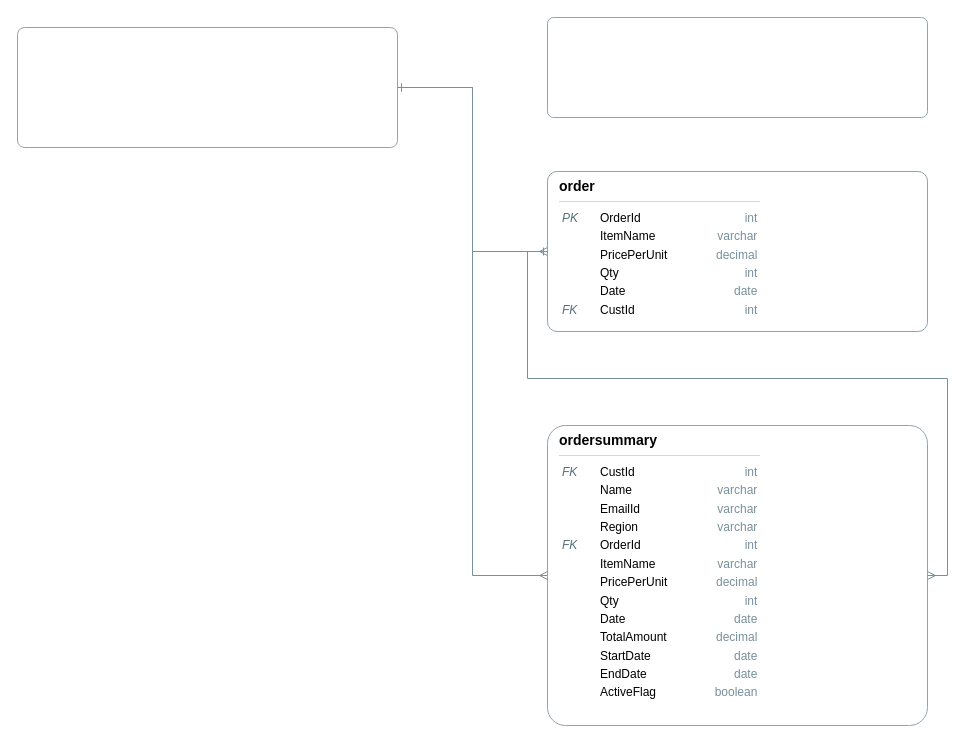
Image size: 974x743. Some labels were removed from this diagram. Each missing label, with the box of its shape:
customer PK CustId int Name varchar EmailId varchar Region varchar: (16, 26, 398, 148)
customeraggregatespend Name varchar Date date TotalAmount decimal: (546, 16, 928, 118)
